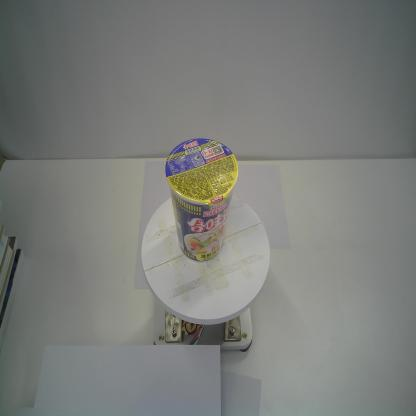Instant Noodles: (165, 137, 239, 263)
